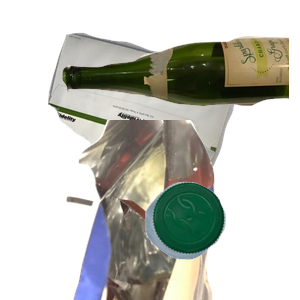glass: (60, 34, 300, 133)
paper: (45, 30, 281, 195)
plastic: (142, 179, 300, 300)
trash: (63, 120, 300, 300)
